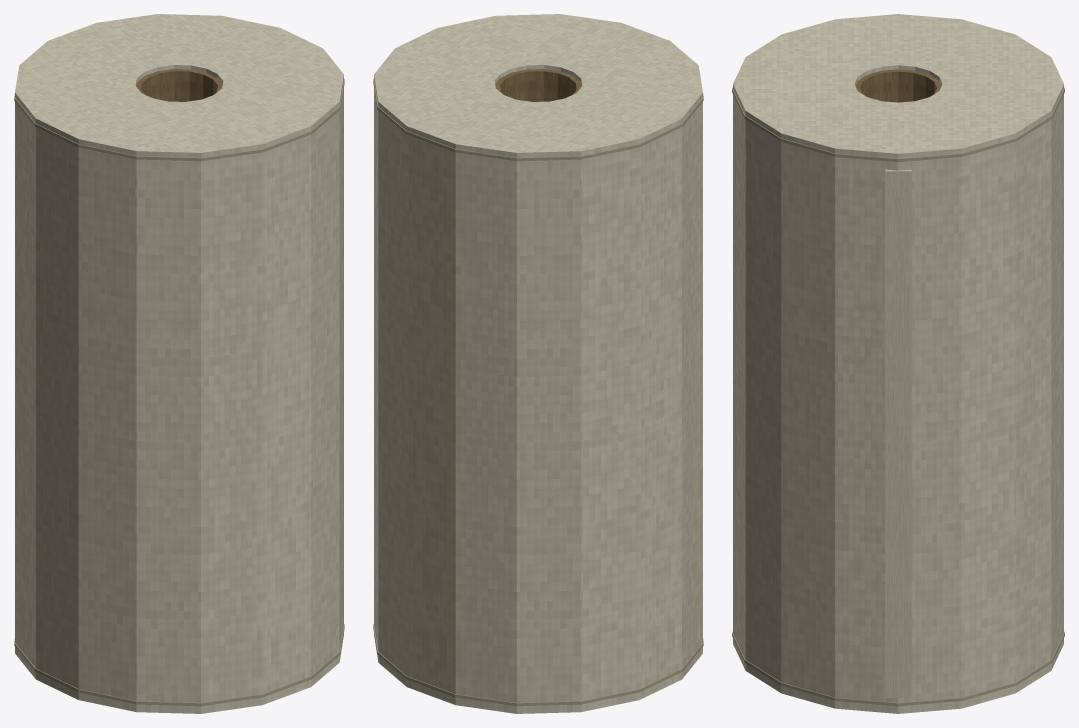
The model's file is paper_towel_roll.glb.
3 views of the same model, side by side, from view 1: azimuth 30°, elevation 25°; view 2: azimuth 150°, elevation 25°; view 3: azimuth 270°, elevation 25° (orthographic).
Parts seen in each view (by area): view 1: paper_towel_roll; view 2: paper_towel_roll; view 3: paper_towel_roll.
Boxes of the visible parts, left/top/right/bottom form: paper_towel_roll: left=14, top=14, right=344, bottom=713; paper_towel_roll: left=373, top=14, right=703, bottom=713; paper_towel_roll: left=732, top=14, right=1064, bottom=713.
Bounding box in the file's own units: 0.1512 × 0.28 × 0.1508.
3 materials, 3 textured.
